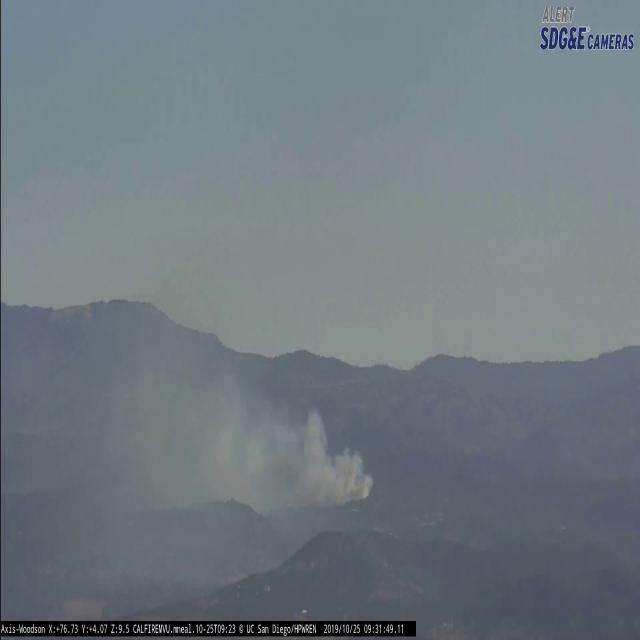smoke: (4, 245, 372, 588)
